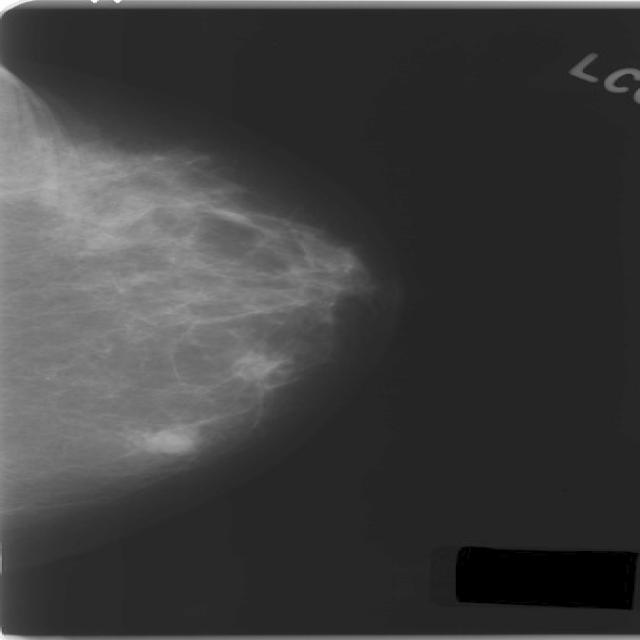tumour: (129, 426, 194, 453)
